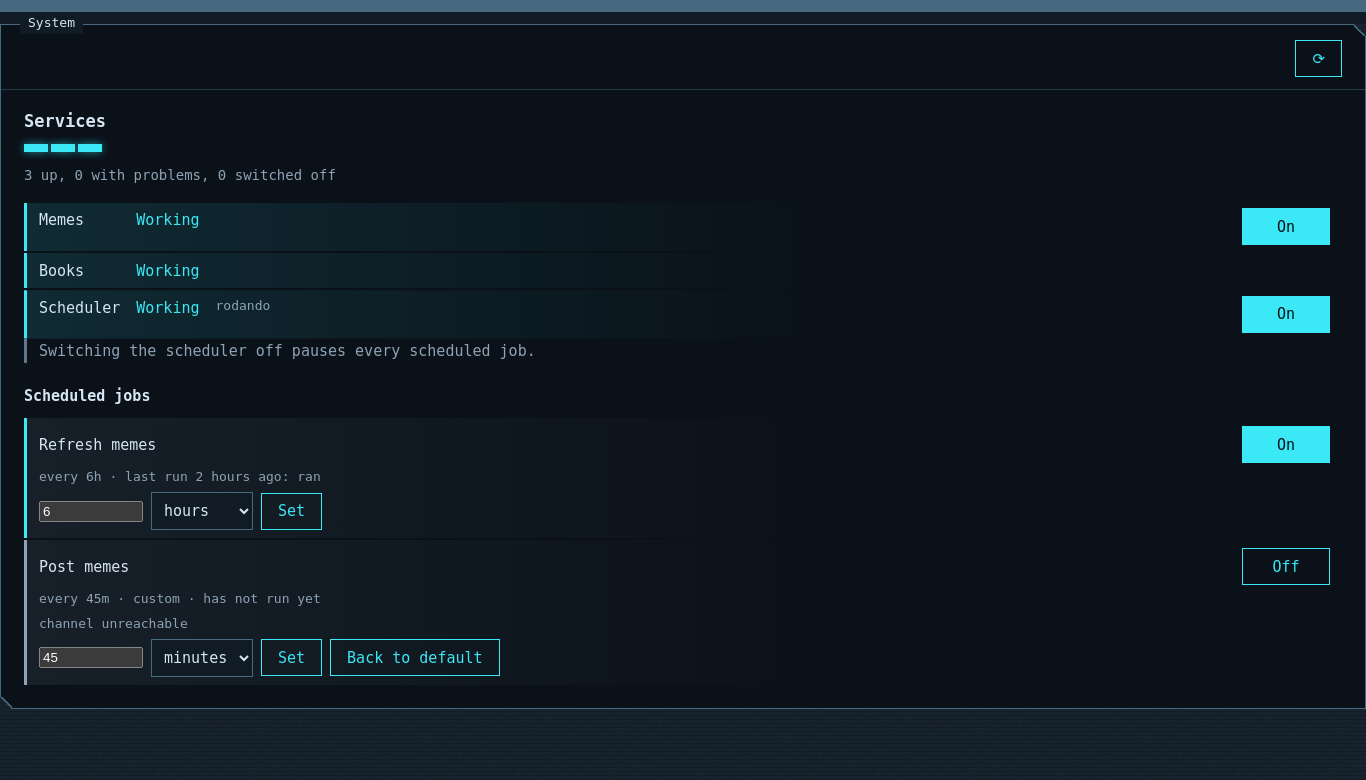
Test: the scheduled jobs on the health card › does not offer an interval the orchestrator would refuse
The width and height of the screenshot is (1366, 780).
Expected: the heading "Scheduled jobs" is shown, left=24, top=387, right=150, bottom=405
Clear the number field named "Refresh memes interval". click: (91, 511)
box: left=39, top=501, right=143, bottom=522
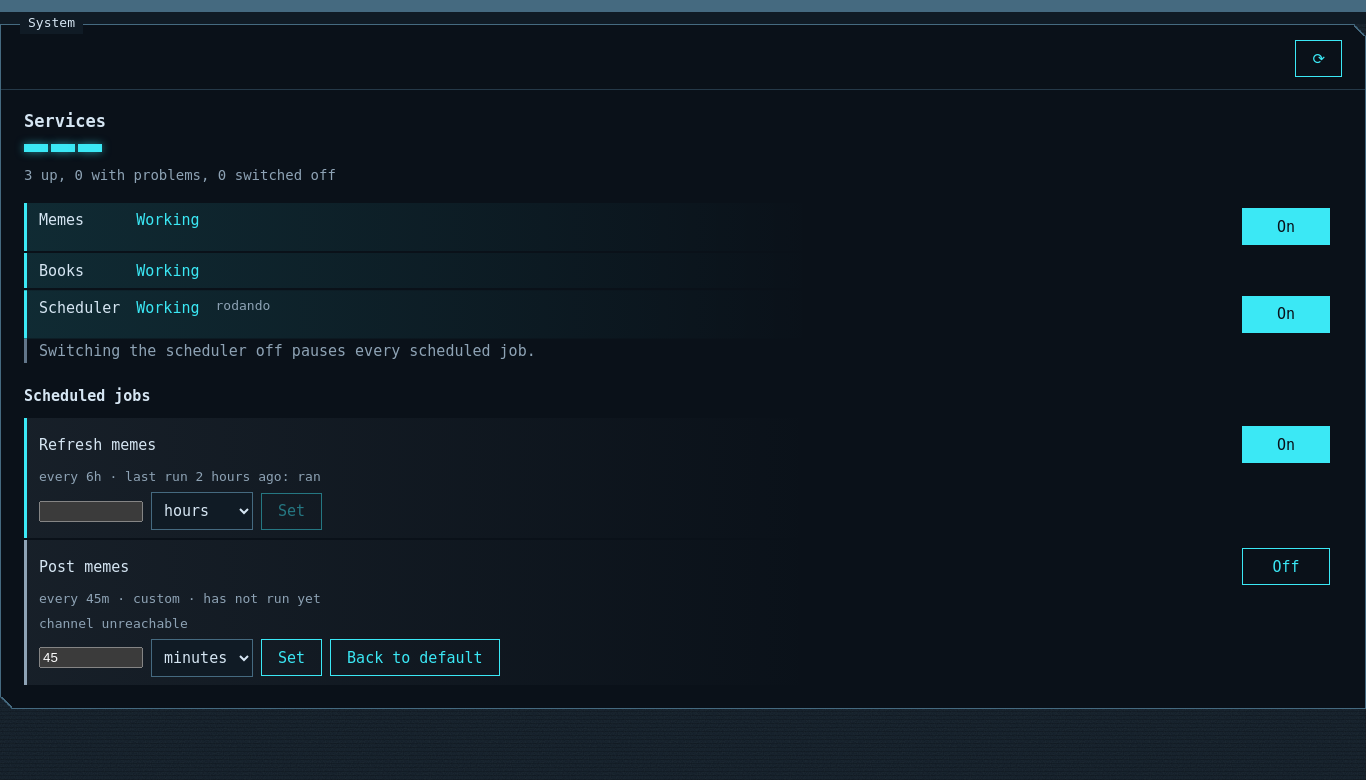
Expected: the button "Set" below "Refresh memes" is disabled, left=261, top=492, right=322, bottom=530
Type "0" into the number field named "Refresh memes interval". click: (91, 511)
box: left=39, top=501, right=143, bottom=522
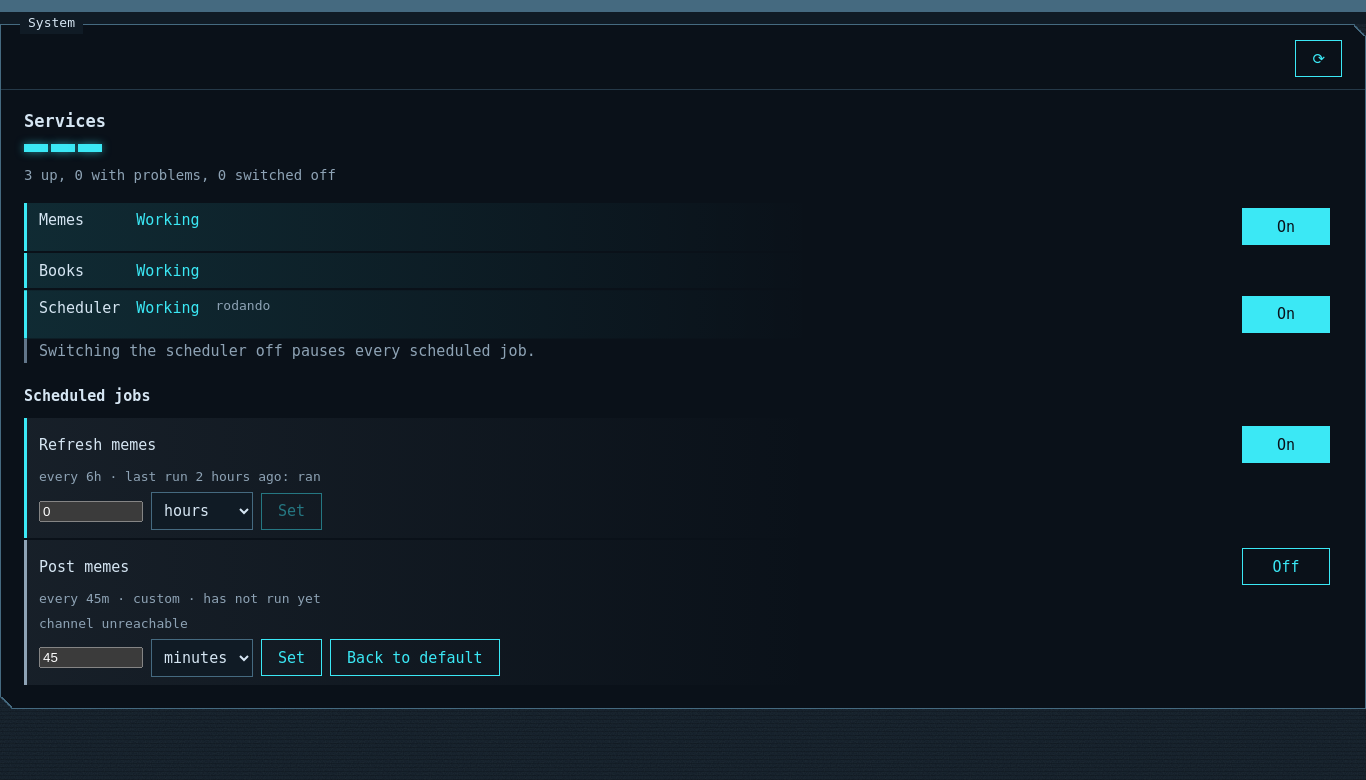
Expected: the button "Set" below "Refresh memes" is disabled, left=261, top=492, right=322, bottom=530
Replace the text in the number field named "Refresh memes interval" with "721". click: (91, 511)
box: left=39, top=501, right=143, bottom=522
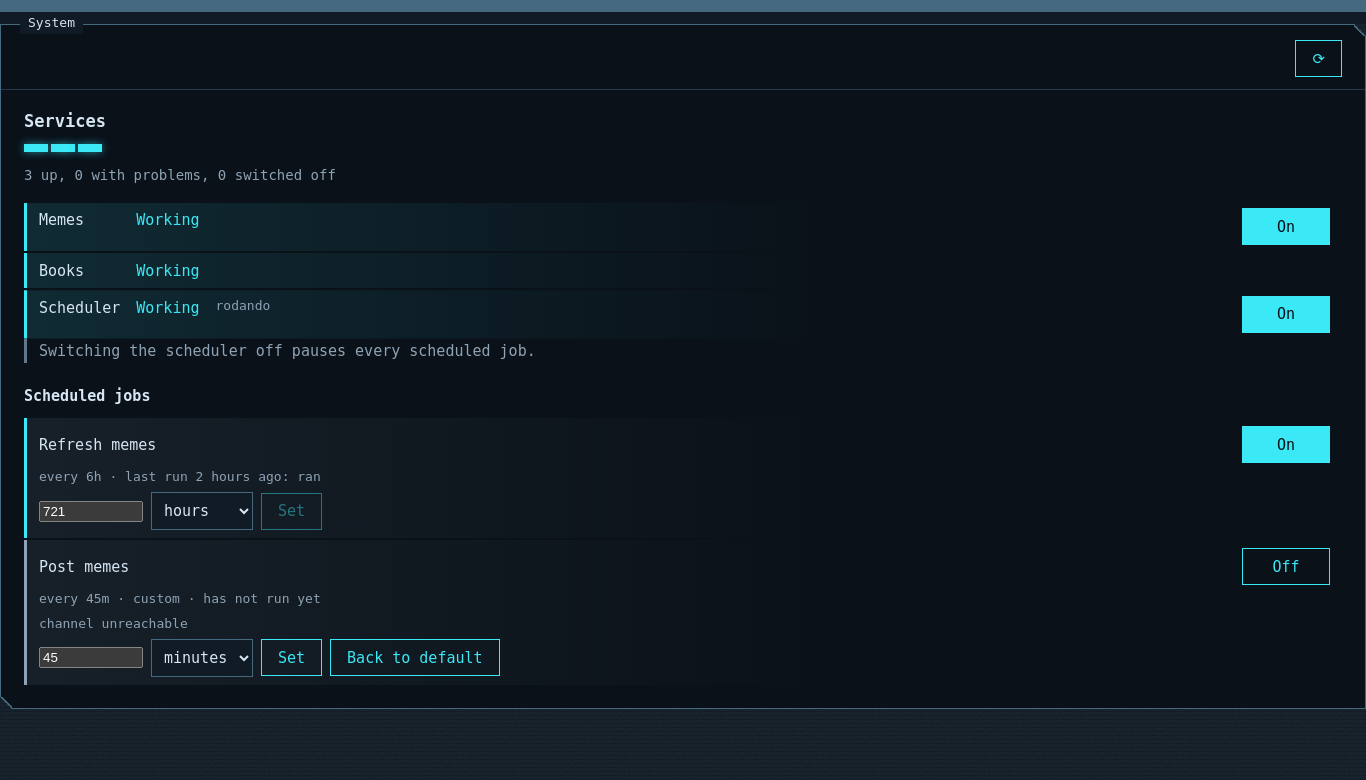
Expected: the button "Set" below "Refresh memes" is disabled, left=261, top=492, right=322, bottom=530
Replace the text in the number field named "Refresh memes interval" with "720". click: (91, 511)
box: left=39, top=501, right=143, bottom=522
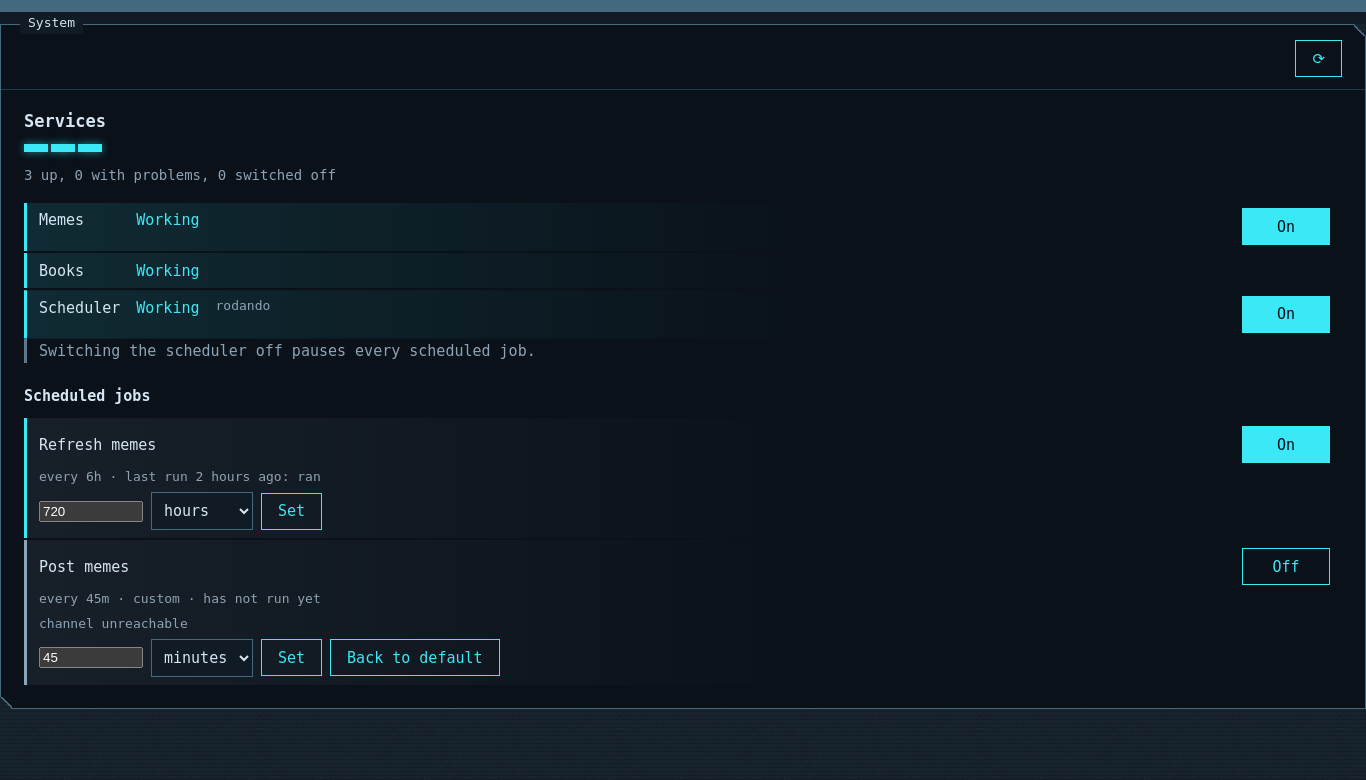
Expected: the button "Set" below "Refresh memes" is enabled, left=261, top=492, right=322, bottom=530
